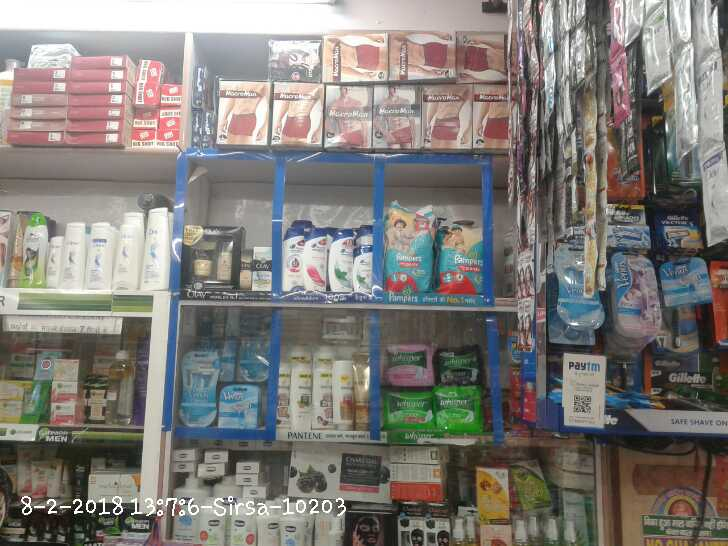gillete: (657, 199, 704, 252), (607, 205, 650, 247), (606, 387, 667, 410)
venus: (613, 255, 654, 349), (184, 350, 217, 427), (663, 258, 709, 307), (240, 312, 271, 377), (220, 385, 261, 427)
